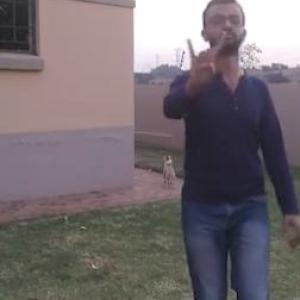takeoff-hand: (181, 33, 229, 94)
